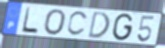5: (136, 16, 156, 43)
C: (65, 11, 89, 38)
D: (86, 10, 111, 40)
G: (111, 13, 135, 42)
L: (20, 6, 39, 35)
O: (43, 8, 67, 36)
